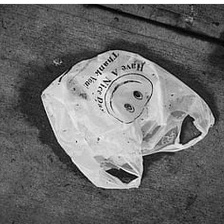plastic_bag: (38, 46, 219, 192)
